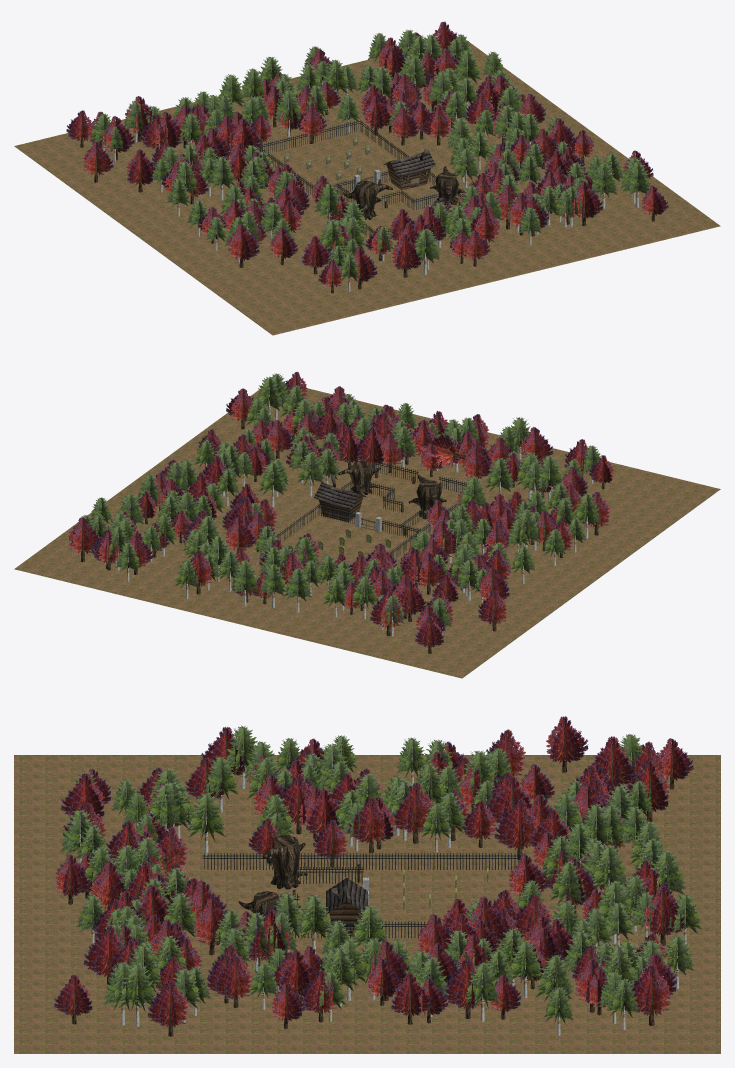
Rendered from cementery.fbx.
The picture shows the model from 3 angles, top to bottom: view 1: azimuth 30°, elevation 25°; view 2: azimuth 150°, elevation 25°; view 3: azimuth 270°, elevation 25°; orthographic projection. The views are drawn at different scales.
Visible parts, largest first — view 1: Landscape, Fence, House, bigTrunk001, Landscape|tree.001|Dupli|2, Landscape|tree.001|Dupli|92, Landscape|tree.001|Dupli|4, Landscape|tree.001|Dupli|188, Landscape|tree.001|Dupli|, BigTrunk002, Landscape|tree.001|Dupli|172, Landscape|tree.001|Dupli|128 (+27 smaller); view 2: Landscape, Fence, House, Landscape|tree.001|Dupli|250, Landscape|tree.001|Dupli|138, bigTrunk001, BigTrunk002, tree.001, Landscape|tree.001|Dupli|, Landscape|tree.001|Dupli|44, Landscape|tree.001|Dupli|52, Landscape|tree.002|Dupli|125 (+30 smaller); view 3: Landscape, Fence, House, bigTrunk001, Landscape|tree.001|Dupli|90, Landscape|tree.001|Dupli|250, Landscape|tree.001|Dupli|, Landscape|tree.001|Dupli|254, Landscape|tree.001|Dupli|142, Landscape|tree.001|Dupli|68, Landscape|tree.001|Dupli|188, Landscape|tree.002|Dupli|85 (+112 smaller).
Boxes of the visible parts, <box> form: Landscape: <box>14,39,720,335</box>; Fence: <box>258,120,462,238</box>; House: <box>383,149,435,189</box>; bigTrunk001: <box>343,180,392,219</box>; Landscape|tree.001|Dupli|2: <box>227,224,259,267</box>; Landscape|tree.001|Dupli|92: <box>391,234,422,277</box>; Landscape|tree.001|Dupli|4: <box>126,149,155,192</box>; Landscape|tree.001|Dupli|188: <box>572,181,603,226</box>; Landscape|tree.001|Dupli|: <box>83,141,113,182</box>; BigTrunk002: <box>430,166,464,206</box>; Landscape|tree.001|Dupli|172: <box>421,105,451,145</box>; Landscape|tree.001|Dupli|128: <box>470,206,499,243</box>; Landscape: <box>14,383,720,678</box>; Fence: <box>259,462,466,569</box>; House: <box>314,475,366,521</box>; Landscape|tree.001|Dupli|250: <box>68,517,100,561</box>; Landscape|tree.001|Dupli|138: <box>357,427,385,468</box>; bigTrunk001: <box>408,475,446,519</box>; BigTrunk002: <box>338,461,380,494</box>; tree.001: <box>420,434,465,467</box>; Landscape|tree.001|Dupli|: <box>478,590,506,631</box>; Landscape|tree.001|Dupli|44: <box>370,590,403,635</box>; Landscape|tree.001|Dupli|52: <box>415,552,446,594</box>; Landscape|tree.002|Dupli|125: <box>231,560,258,606</box>; Landscape: <box>14,755,720,1053</box>; Fence: <box>202,853,524,938</box>; House: <box>326,878,367,935</box>; bigTrunk001: <box>262,835,307,889</box>; Landscape|tree.001|Dupli|90: <box>494,799,539,859</box>; Landscape|tree.001|Dupli|250: <box>629,964,671,1025</box>; Landscape|tree.001|Dupli|: <box>546,716,588,772</box>; Landscape|tree.001|Dupli|254: <box>147,980,188,1036</box>; Landscape|tree.001|Dupli|142: <box>643,885,685,945</box>; Landscape|tree.001|Dupli|68: <box>392,782,433,843</box>; Landscape|tree.001|Dupli|188: <box>83,925,124,986</box>; Landscape|tree.002|Dupli|85: <box>187,792,225,855</box>.
Size of the model in its own units: 10000 by 1834 by 10000.
